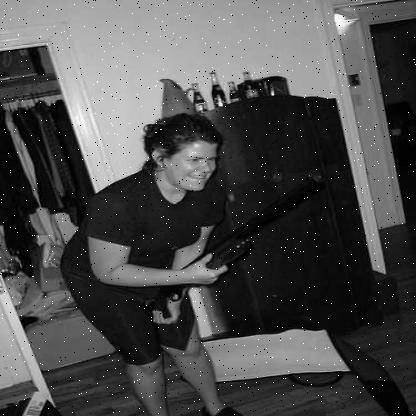rifle: (156, 175, 328, 329)
